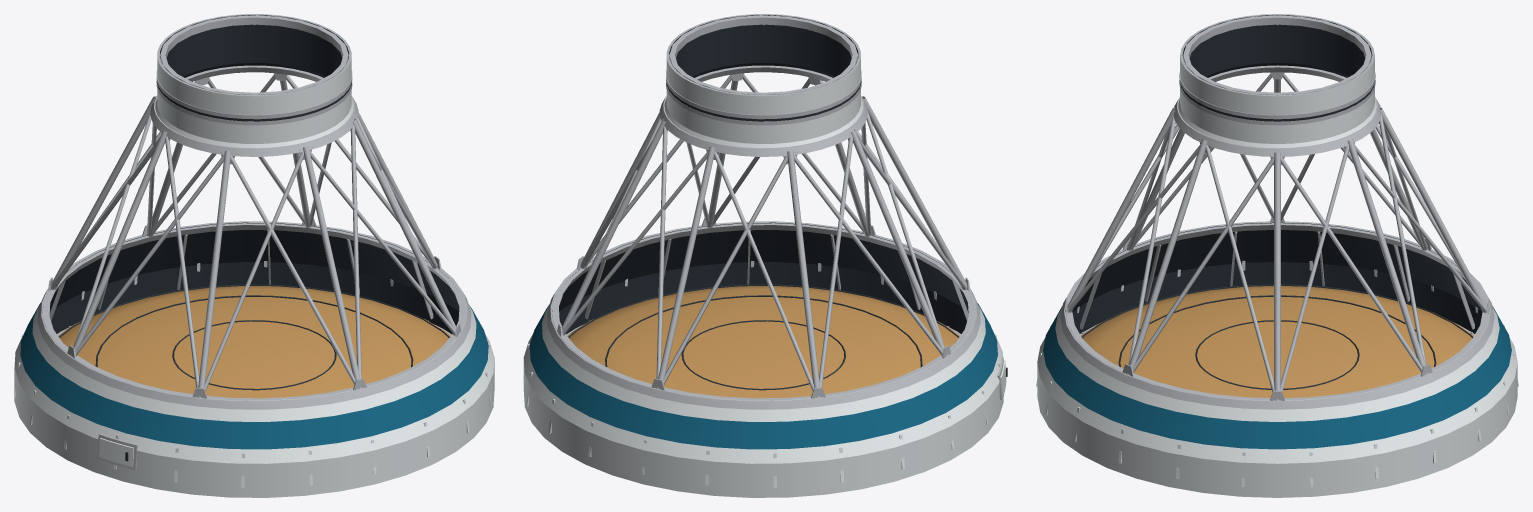
File: interstage_hot_staging_d37_to_d15.glb
3 views of the same model, side by side, from view 1: azimuth 30°, elevation 25°; view 2: azimuth 150°, elevation 25°; view 3: azimuth 270°, elevation 25° (orthographic).
Parts seen in each view (by area): view 1: interstage_hot_staging_d37_to_d15_mesh; view 2: interstage_hot_staging_d37_to_d15_mesh; view 3: interstage_hot_staging_d37_to_d15_mesh.
Boxes of the visible parts, <box> form: interstage_hot_staging_d37_to_d15_mesh: <box>14,14,494,497</box>; interstage_hot_staging_d37_to_d15_mesh: <box>523,14,1007,497</box>; interstage_hot_staging_d37_to_d15_mesh: <box>1036,14,1518,497</box>.
Bounding box in the file's own units: 3.7 × 2.9 × 3.72.
